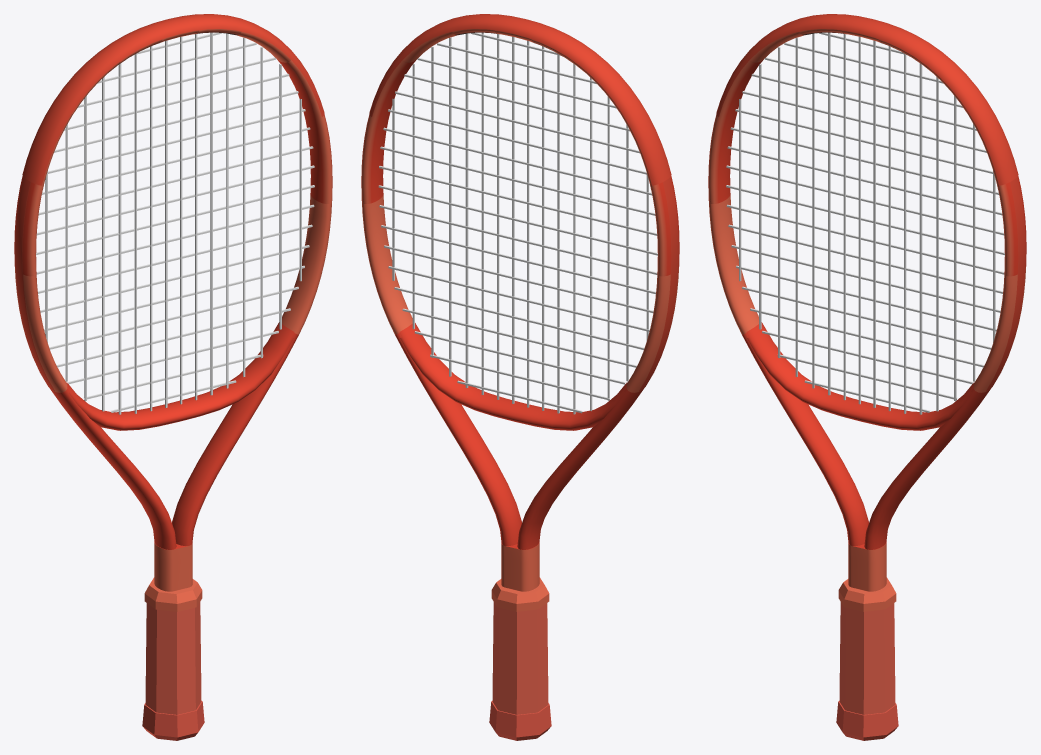
File: head-radical-junior-21.glb
3 renders of one model, left to right at view 1: azimuth 30°, elevation 25°; view 2: azimuth 150°, elevation 25°; view 3: azimuth 330°, elevation 25°, orthographic.
Visible parts, largest first — view 1: frame, strings_mains, strings_crosses, bumper, grip, butt_cap, grommets, collar; view 2: frame, strings_mains, strings_crosses, bumper, grip, butt_cap, grommets, collar; view 3: frame, strings_mains, strings_crosses, bumper, grip, butt_cap, grommets, collar.
Boxes of the visible parts, x1,y1,x2,y2 form: frame: (14, 29, 332, 591); strings_mains: (45, 32, 301, 414); strings_crosses: (36, 32, 314, 412); bumper: (22, 14, 324, 185); grip: (145, 602, 201, 714); butt_cap: (142, 700, 204, 740); grommets: (15, 177, 54, 391); collar: (144, 577, 202, 611); frame: (361, 29, 679, 591); strings_mains: (392, 32, 648, 414); strings_crosses: (378, 32, 657, 413); bumper: (369, 14, 671, 185); grip: (492, 602, 548, 714); butt_cap: (489, 700, 551, 740); grommets: (639, 177, 678, 391); collar: (491, 577, 549, 611); frame: (708, 29, 1026, 591); strings_mains: (739, 32, 995, 414); strings_crosses: (726, 32, 1004, 412); bumper: (716, 14, 1018, 185); grip: (839, 602, 895, 714); butt_cap: (836, 700, 898, 740); grommets: (986, 177, 1025, 391); collar: (838, 577, 896, 611).
Size of the model in its own units: 0.2449 by 0.5337 by 0.0396.
